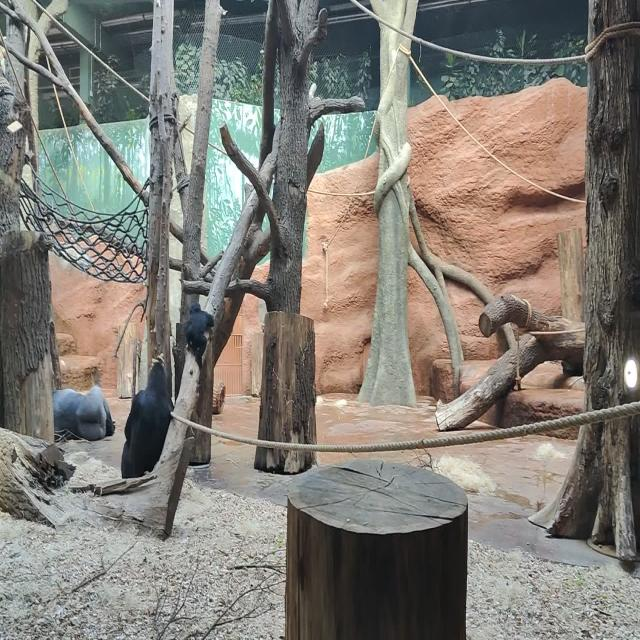monkey: (121, 362, 174, 479), (52, 386, 116, 442), (184, 301, 214, 370)
